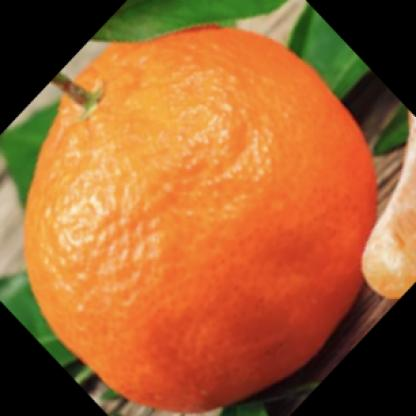fresh: (23, 26, 379, 413)
